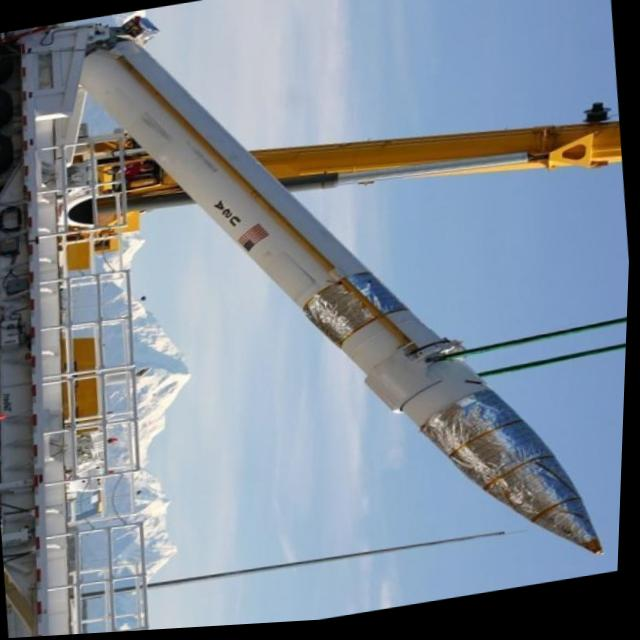missile: (44, 0, 629, 637)
